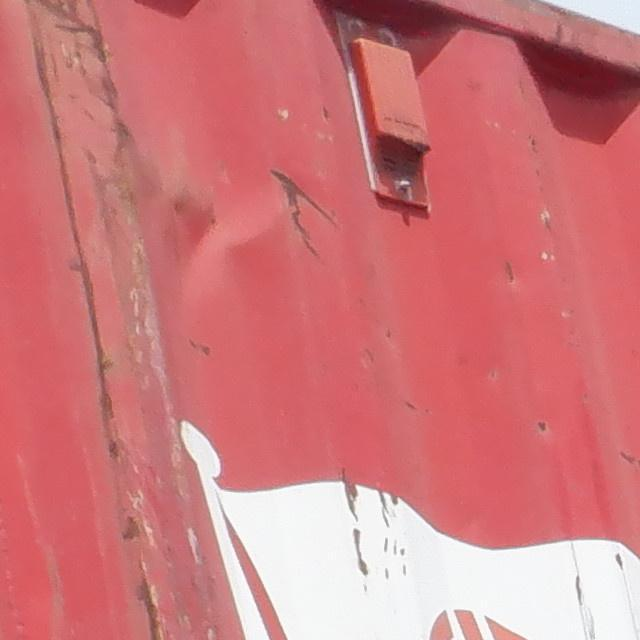dent: (107, 117, 309, 294)
